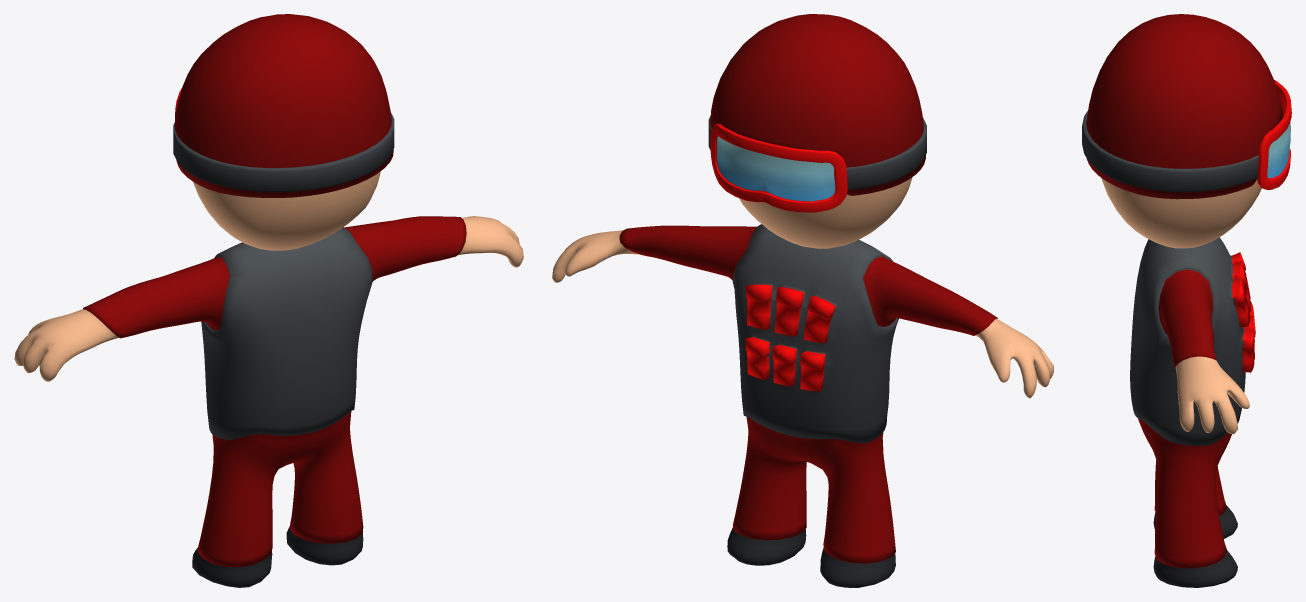
File: Enemy.fbx
3 renders of one model, left to right at view 1: azimuth 30°, elevation 25°; view 2: azimuth 150°, elevation 25°; view 3: azimuth 270°, elevation 25°, orthographic. The views are drawn at different scales.
Parts seen in each view (by area): view 1: Enemy; view 2: Enemy; view 3: Enemy.
Boxes of the visible parts, x1,y1,x2,y2 form: Enemy: (14, 14, 523, 587); Enemy: (552, 14, 1053, 587); Enemy: (1082, 14, 1291, 587).
Size of the model in its own units: 255 by 268 by 95.72.
